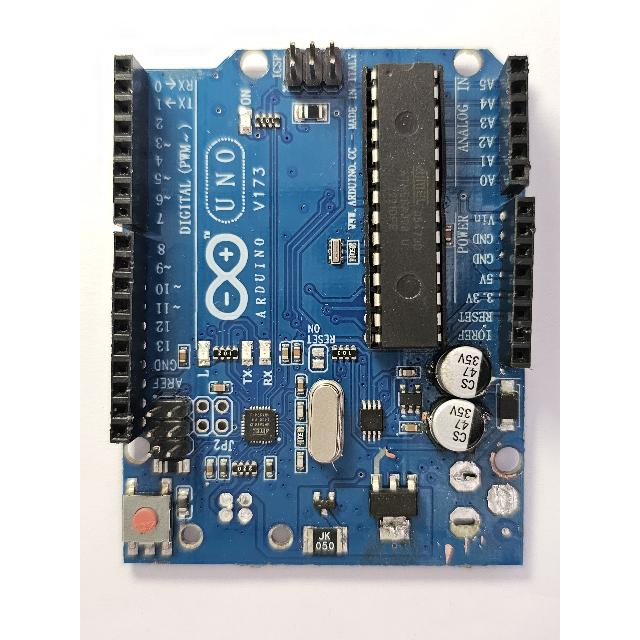missing_eps: (438, 455, 501, 549)
missing_usb: (198, 483, 298, 557)
